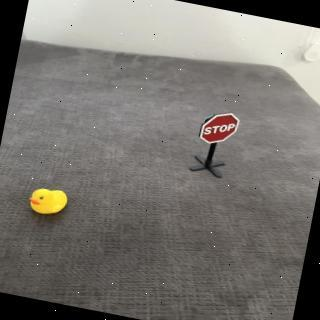duck_regular: (25, 183, 73, 221)
sign_stop: (198, 106, 243, 150)
